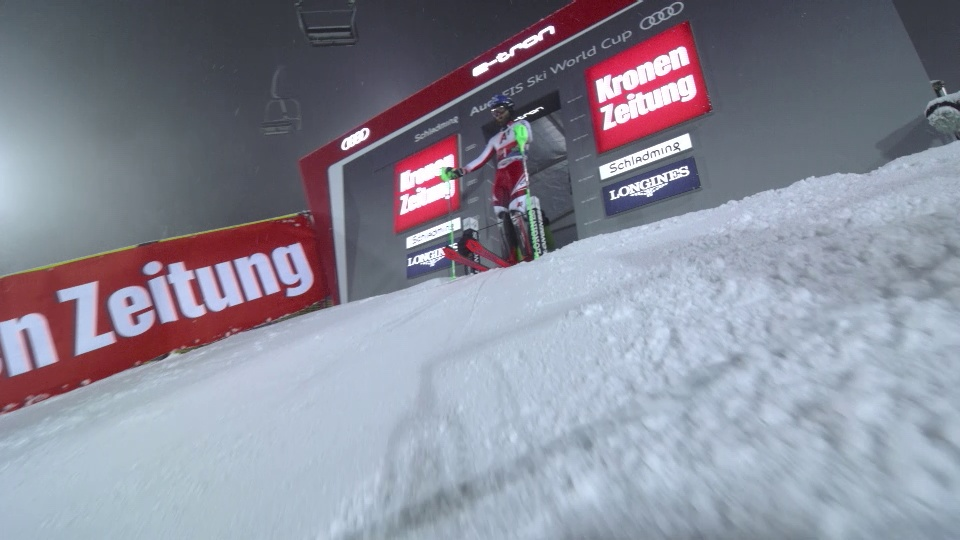a1: (498, 127, 512, 149)
audi: (638, 1, 684, 33), (336, 126, 372, 155)
etron: (463, 20, 572, 76)
kronenzeitung: (21, 223, 332, 378), (588, 45, 702, 137), (397, 158, 454, 222)
longines: (604, 159, 699, 208), (408, 248, 451, 277)
schladming: (602, 144, 694, 168)
